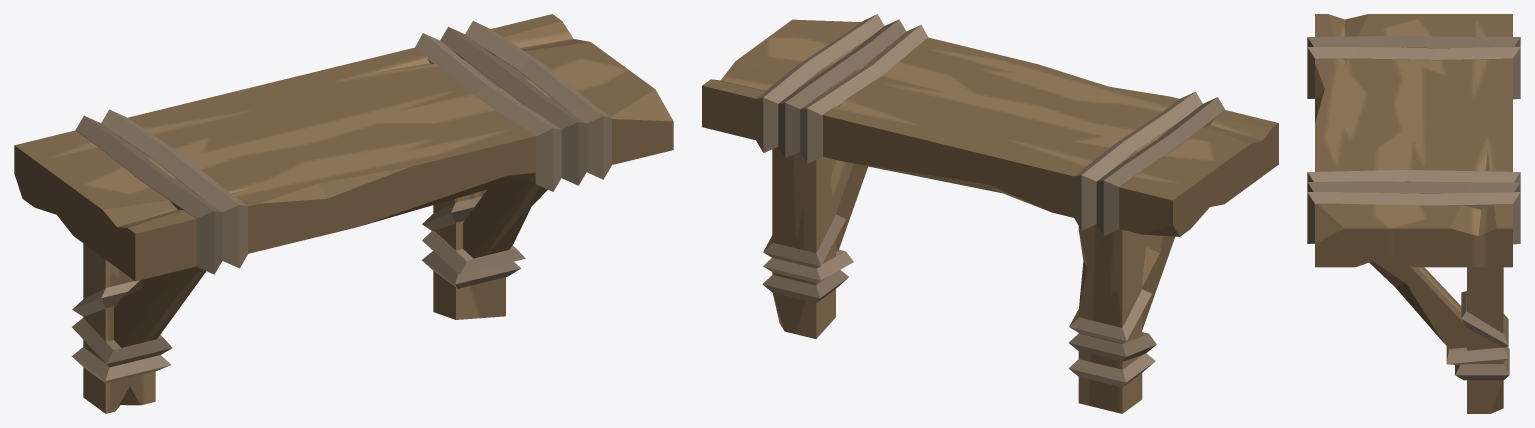
The model's file is SM_Prop_Shelf_01.fbx.
3 renders of one model, left to right at view 1: azimuth 30°, elevation 25°; view 2: azimuth 150°, elevation 25°; view 3: azimuth 270°, elevation 25°, orthographic. The views are drawn at different scales.
Parts seen in each view (by area): view 1: SM_Prop_Shelf_01; view 2: SM_Prop_Shelf_01; view 3: SM_Prop_Shelf_01.
Boxes of the visible parts, <box> form: SM_Prop_Shelf_01: <box>14,14,673,413</box>; SM_Prop_Shelf_01: <box>702,14,1278,413</box>; SM_Prop_Shelf_01: <box>1307,14,1520,413</box>.
Bounding box in the file's own units: 133 × 64.01 × 55.72.
